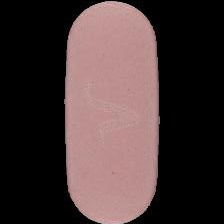63629-3355: (0, 0, 224, 224)
